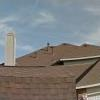Chimney: (4, 26, 22, 73)
